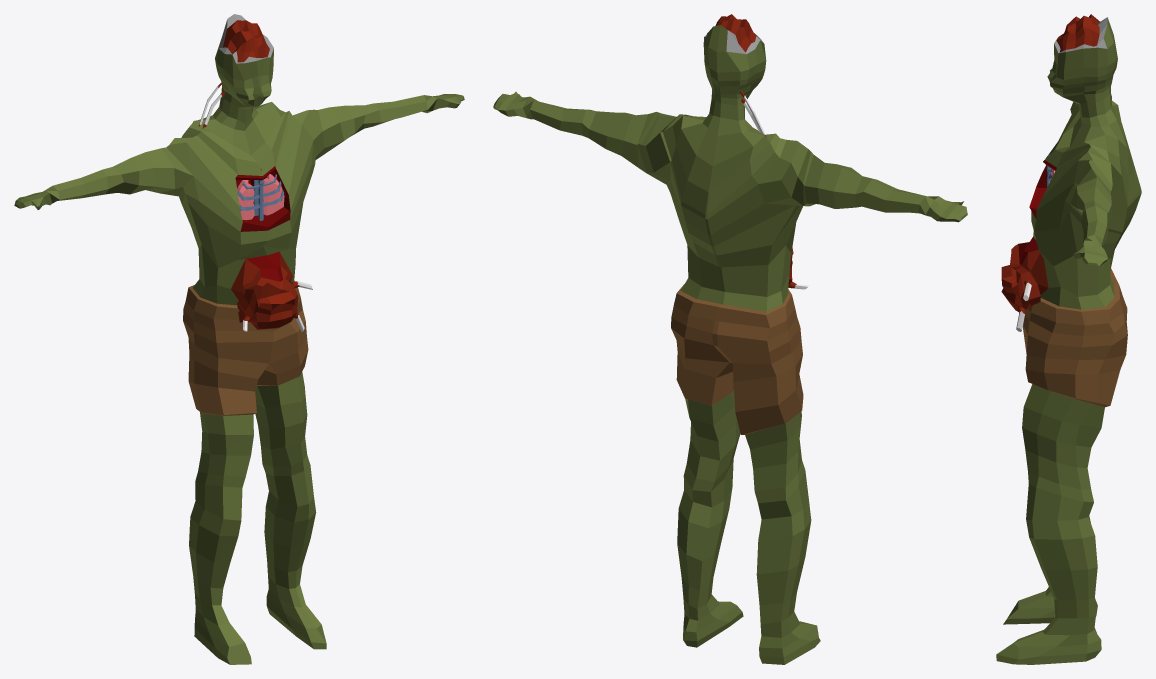
File: Zombie.fbx
The picture shows the model from 3 angles, left to right: view 1: azimuth 30°, elevation 25°; view 2: azimuth 150°, elevation 25°; view 3: azimuth 270°, elevation 25°; orthographic projection. The views are drawn at different scales.
Parts seen in each view (by area): view 1: body; view 2: body; view 3: body.
Boxes of the visible parts, bbox=[...] form: body: bbox=[14, 14, 464, 664]; body: bbox=[493, 14, 967, 664]; body: bbox=[996, 14, 1141, 664].
Bounding box in the file's own units: 362 × 472 × 99.52.
